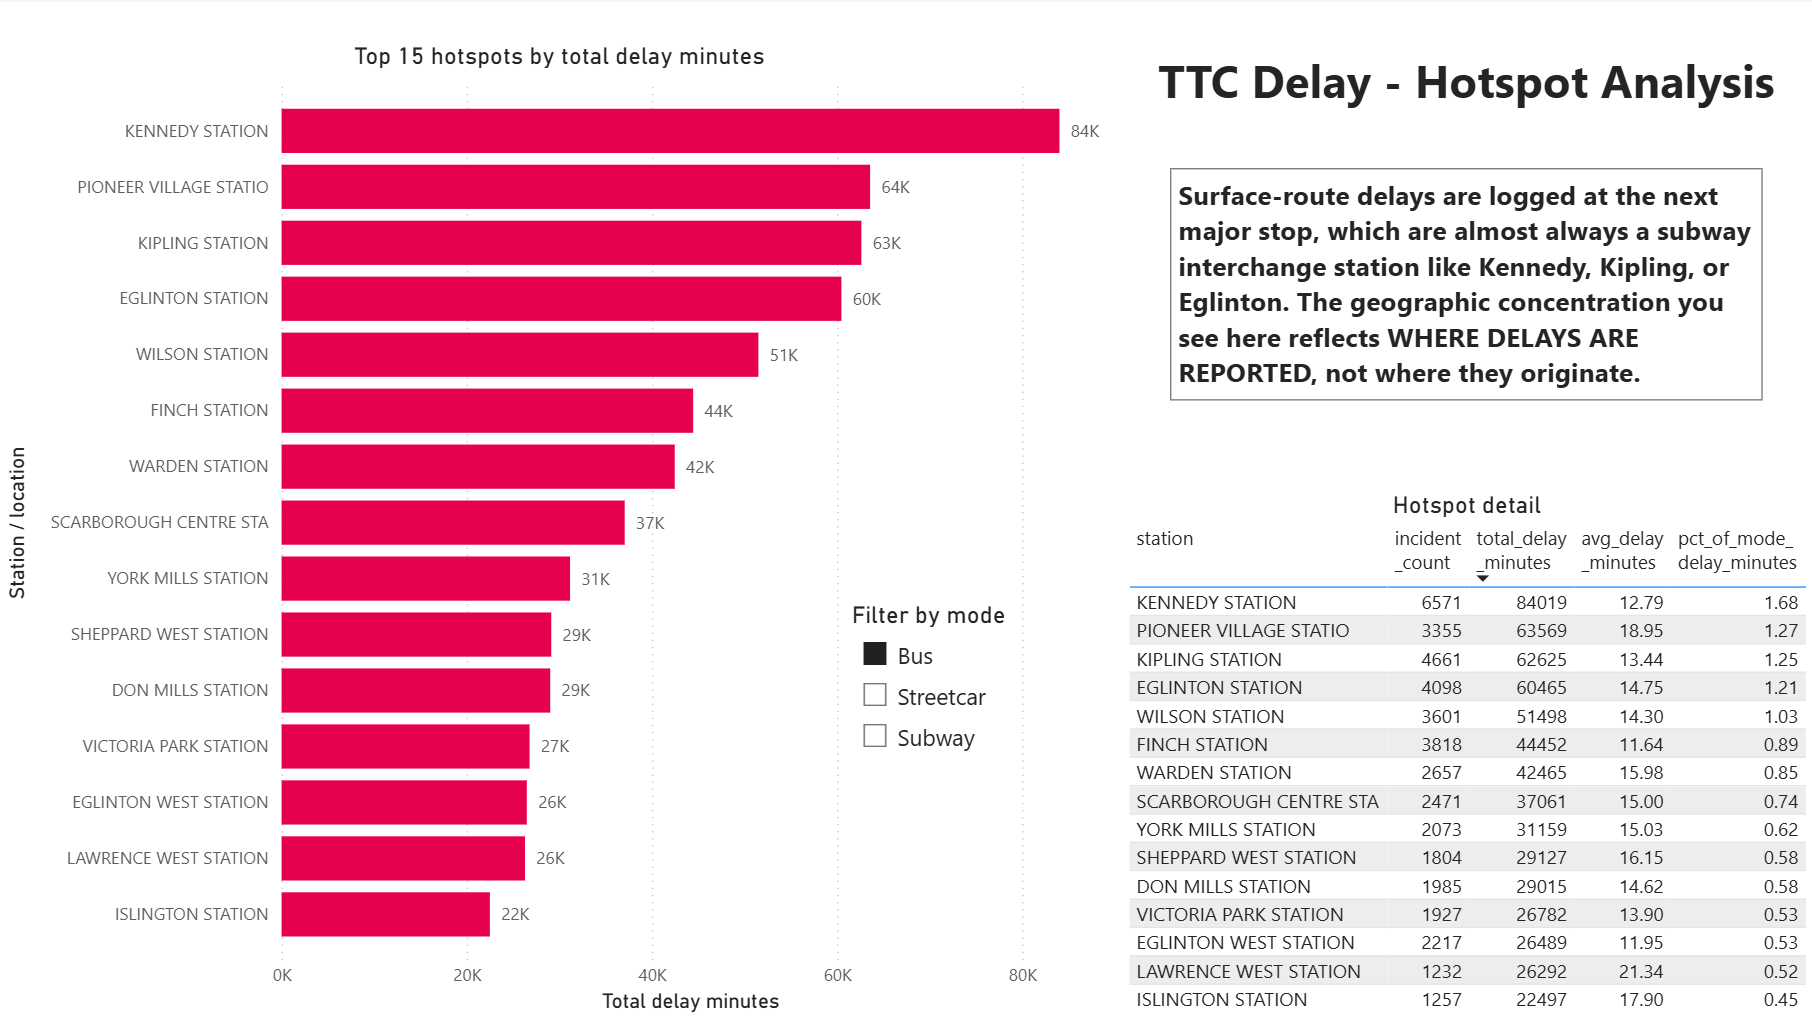

This screenshot's page, from the dashboard's own definition file:
{"tool":"powerbi","page":{"name":"Hotspots","canvas":[1280,720],"ordinal":2},"visuals":[{"type":"barChart","title":"Top 15 hotspots by total delay minutes","fields":{"Category":["public vw_top_hotspots_by_mode.station"],"Y":["Sum(public vw_top_hotspots_by_mode.total_delay_minutes)"]},"box":[0,8.1,792.2,711.8],"z":0},{"type":"slicer","title":"Filter by mode","fields":{"Values":["public dim_mode.transit_mode"]},"box":[597.3,424.6,119.9,119.9],"z":1000},{"type":"tableEx","title":"Hotspot detail","fields":{"Values":["public vw_top_hotspots_by_mode.station","public vw_top_hotspots_by_mode.incident_count","public vw_top_hotspots_by_mode.total_delay_minutes","public vw_top_hotspots_by_mode.avg_delay_minutes","public vw_top_hotspots_by_mode.pct_of_mode_delay_minutes"]},"box":[792,347,488,373.1],"z":2000},{"type":"textbox","box":[826.5,119.9,418.2,163.6],"z":3000},{"type":"textbox","box":[808.9,30.3,453.5,56.4],"z":4000}]}

Visuals, with their boxes in screenshot pixels (x1, y1, x2, y2), scaled from the page's 1280x720 canvas onto the 1812x1018 screenshot:
"Top 15 hotspots by total delay minutes" barChart: 0 11 1121 1017
"Filter by mode" slicer: 846 600 1015 770
"Hotspot detail" tableEx: 1121 491 1811 1017
textbox: 1170 170 1762 401
textbox: 1145 43 1787 123
